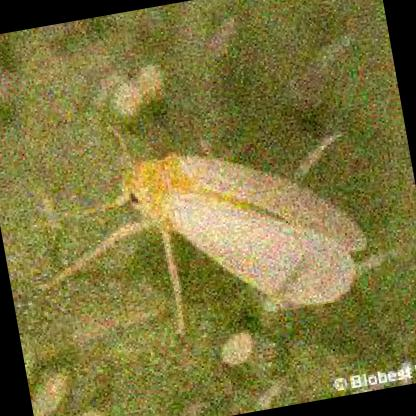whitefly: (122, 151, 367, 309)
